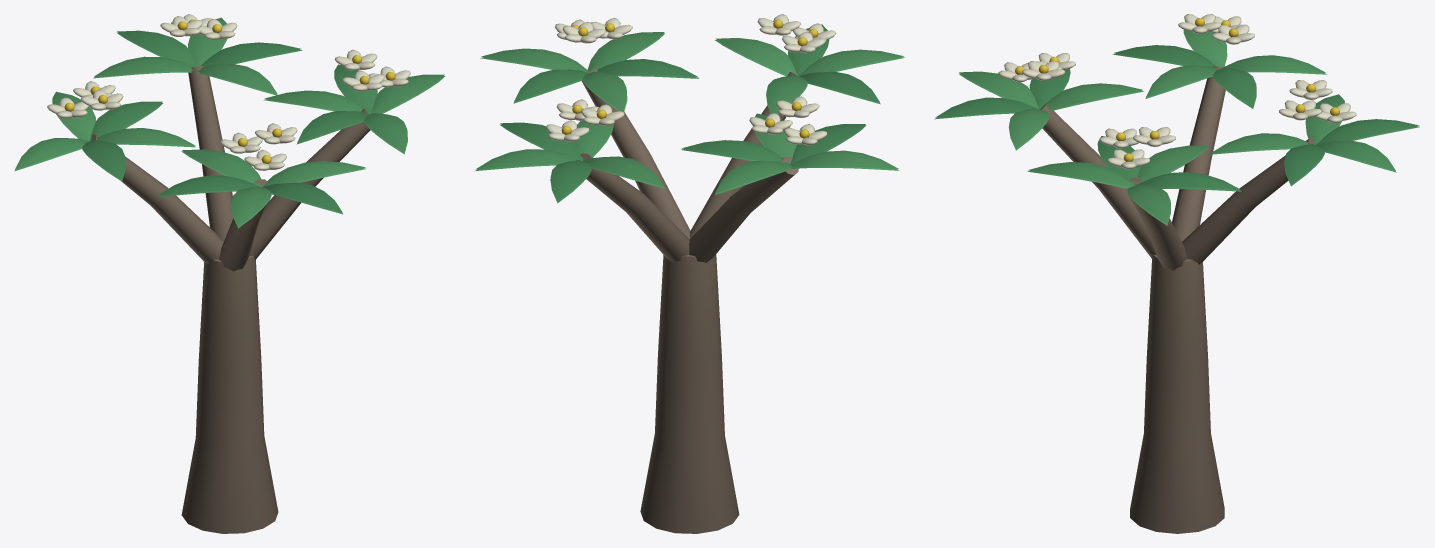
Rendered from tree-frangipani-hd.glb.
3 views of the same model, side by side, from view 1: azimuth 30°, elevation 25°; view 2: azimuth 150°, elevation 25°; view 3: azimuth 270°, elevation 25° (orthographic). The views are drawn at different scales.
Visible parts, largest first — view 1: tree-frangipani-hd; view 2: tree-frangipani-hd; view 3: tree-frangipani-hd.
Part boxes in pixels (x1=…): tree-frangipani-hd: x1=14, y1=14, x2=445, y2=533; tree-frangipani-hd: x1=474, y1=14, x2=904, y2=533; tree-frangipani-hd: x1=934, y1=14, x2=1419, y2=533.
Size of the model in its own units: 2.87 by 2.85 by 2.86.
